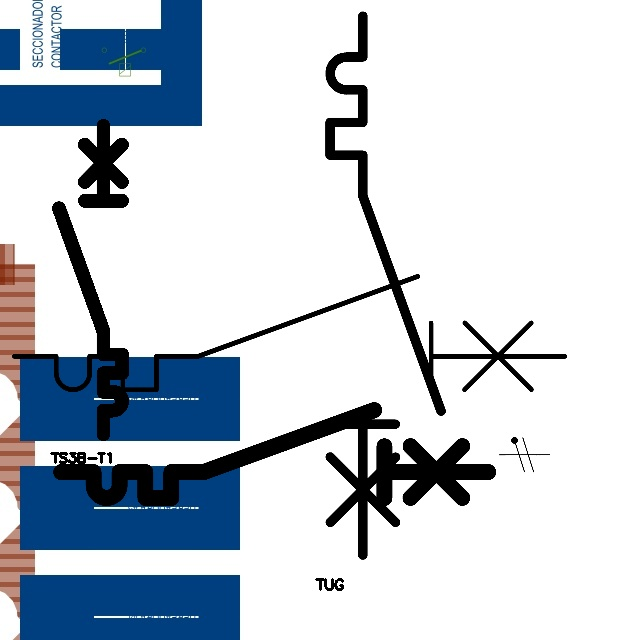interruptor_termomagnetico: (0, 262, 579, 404), (316, 2, 455, 569), (50, 399, 499, 509), (51, 118, 130, 442)
